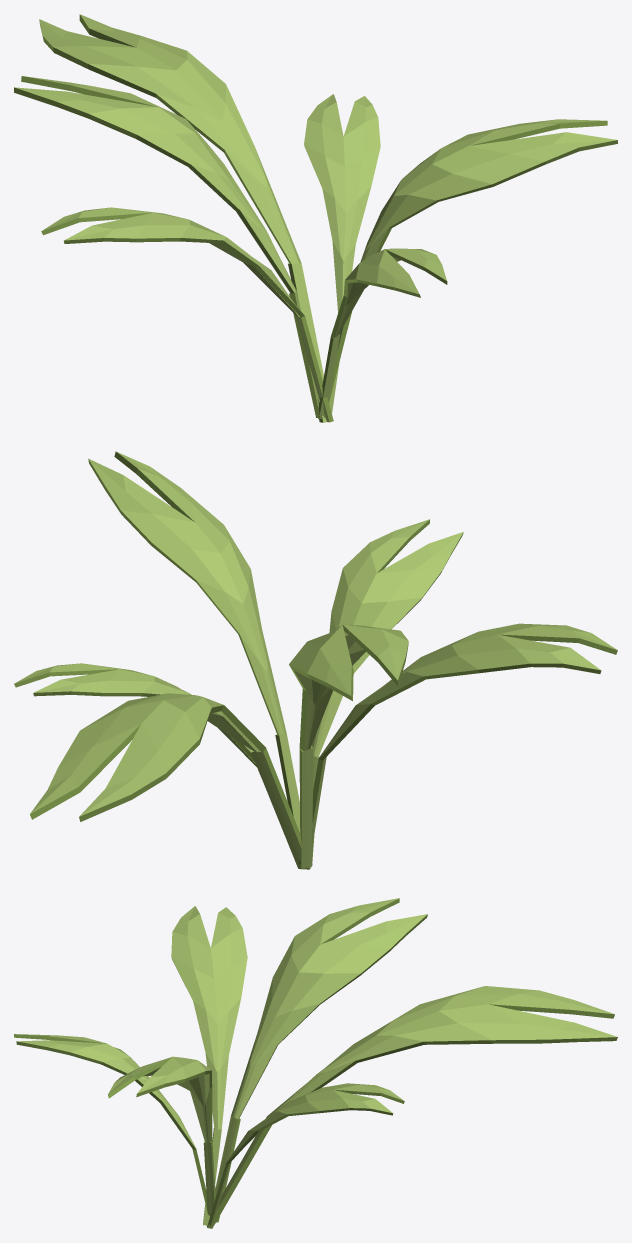
File: Plant_03.glb
The picture shows the model from 3 angles, top to bottom: view 1: azimuth 30°, elevation 25°; view 2: azimuth 150°, elevation 25°; view 3: azimuth 270°, elevation 25°; orthographic projection. The views are drawn at different scales.
Parts seen in each view (by area): view 1: Plant_03; view 2: Plant_03; view 3: Plant_03.
Boxes of the visible parts, x1,y1,x2,y2 form: Plant_03: (14,14,617,422); Plant_03: (14,451,617,869); Plant_03: (14,898,617,1228).
Bounding box in the file's own units: 1.18 × 0.6639 × 1.46.
Materials: 1 (1 with a texture image).
